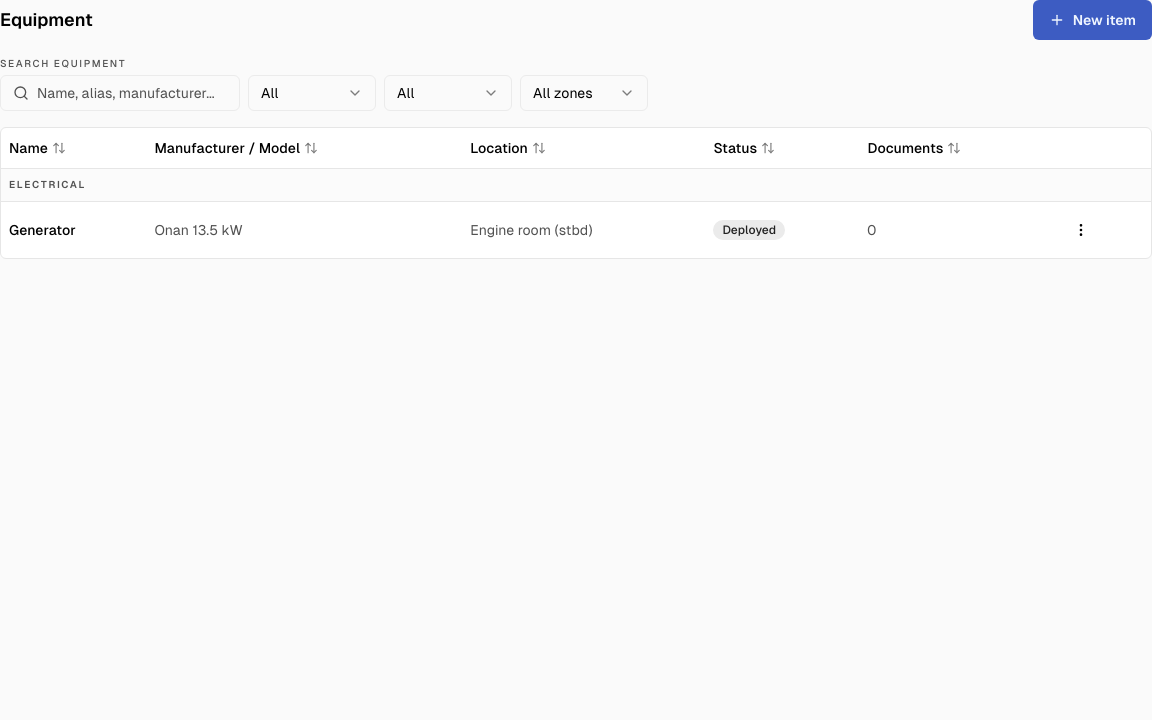
EquipmentIndex › will not delete while what uses the item cannot be checked
Expected: the text "Generator" is shown, [9,222,76,238]
Click the button named "Actions for Generator": (1080, 230) [1060,210,1100,250]
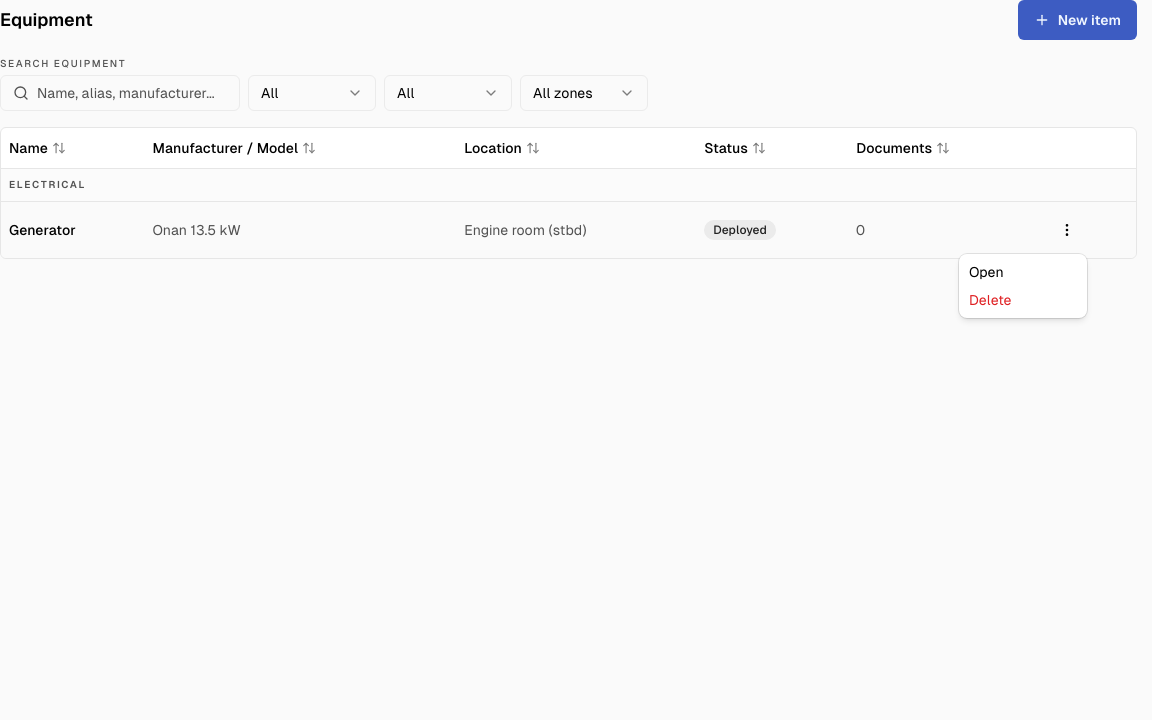
Click the menu item "Delete": (990, 300) [969,292,1012,308]
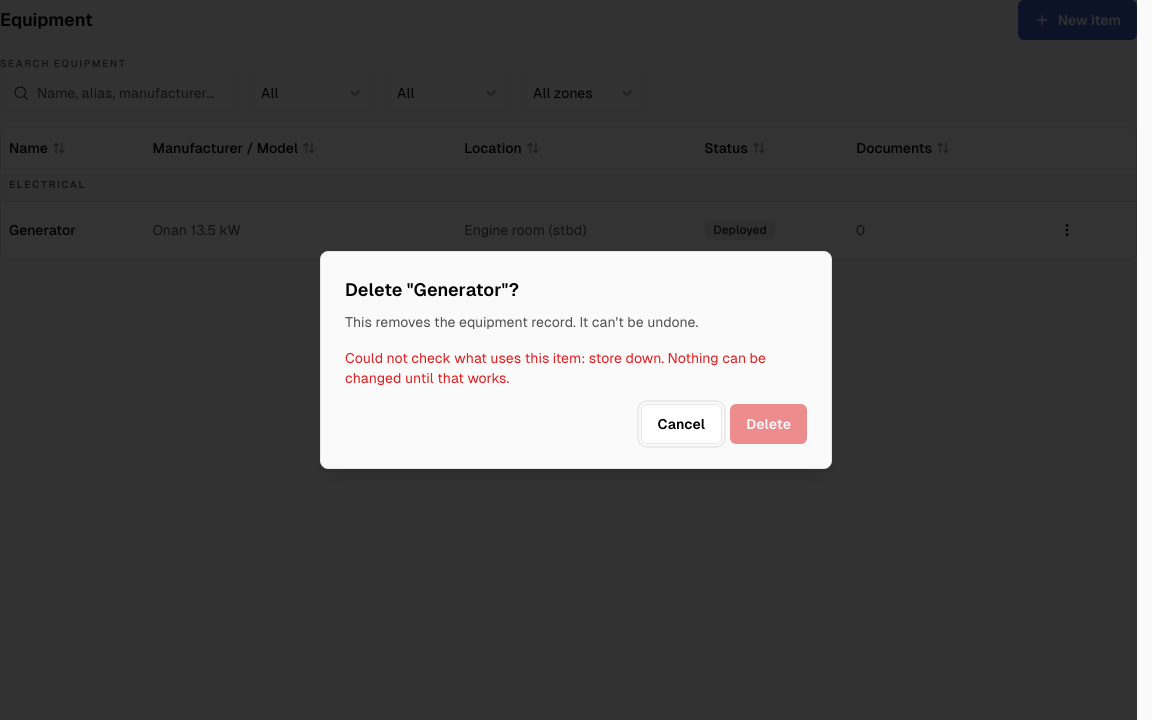
Expected: the text "Could not check what uses this item: store down" is shown, [345,348,807,388]
Expected: the button "Delete" is disabled, [730,404,807,444]
